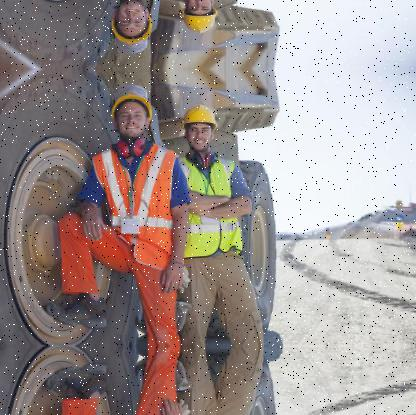helmet: (108, 79, 162, 145), (107, 0, 162, 58), (182, 101, 222, 151), (181, 0, 222, 36)
